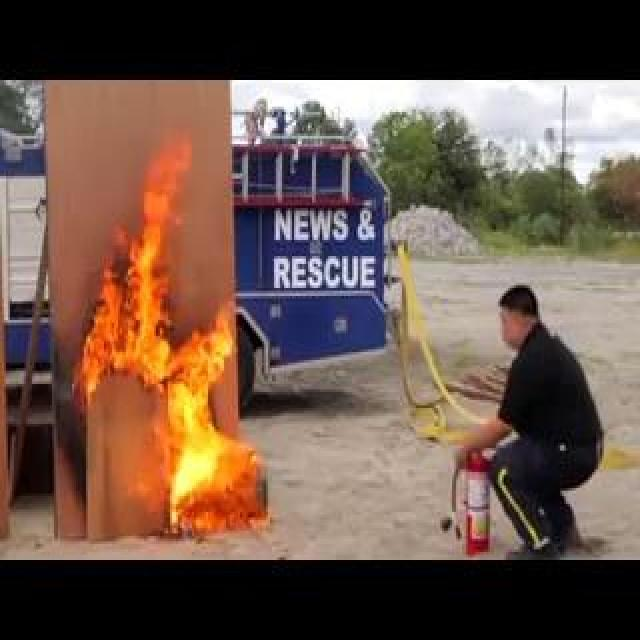Fire: (168, 320, 202, 442)
